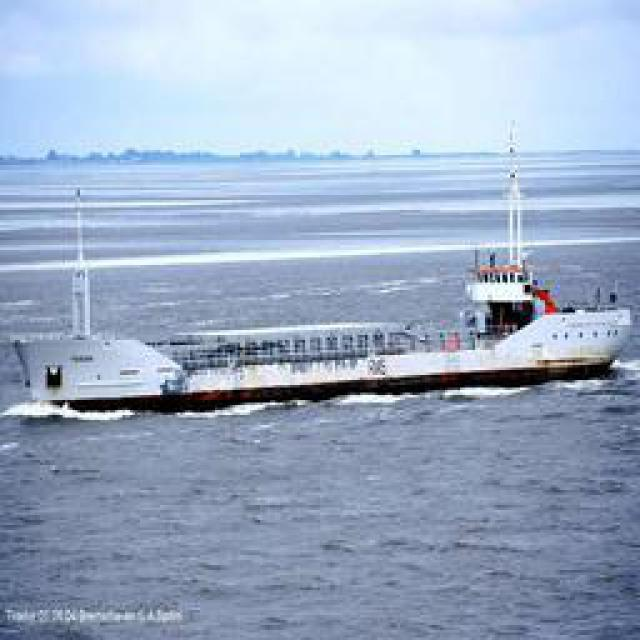Ship: (10, 252, 640, 409)
